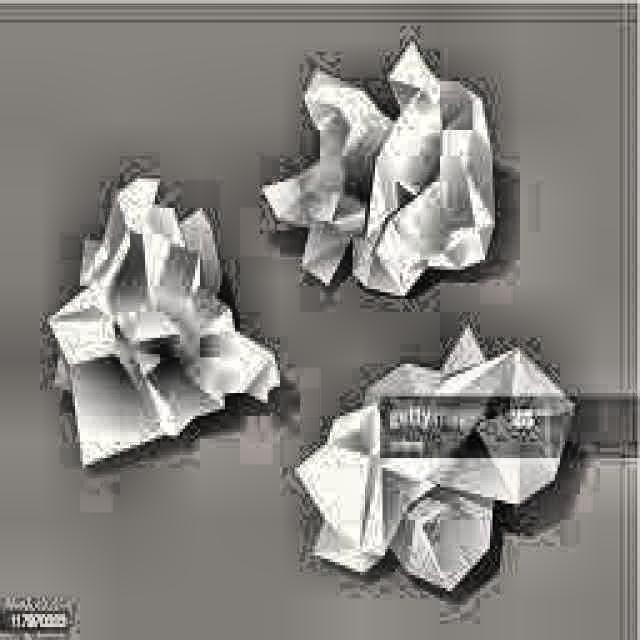Paper: (295, 322, 573, 585), (45, 172, 277, 465), (258, 36, 493, 296)
